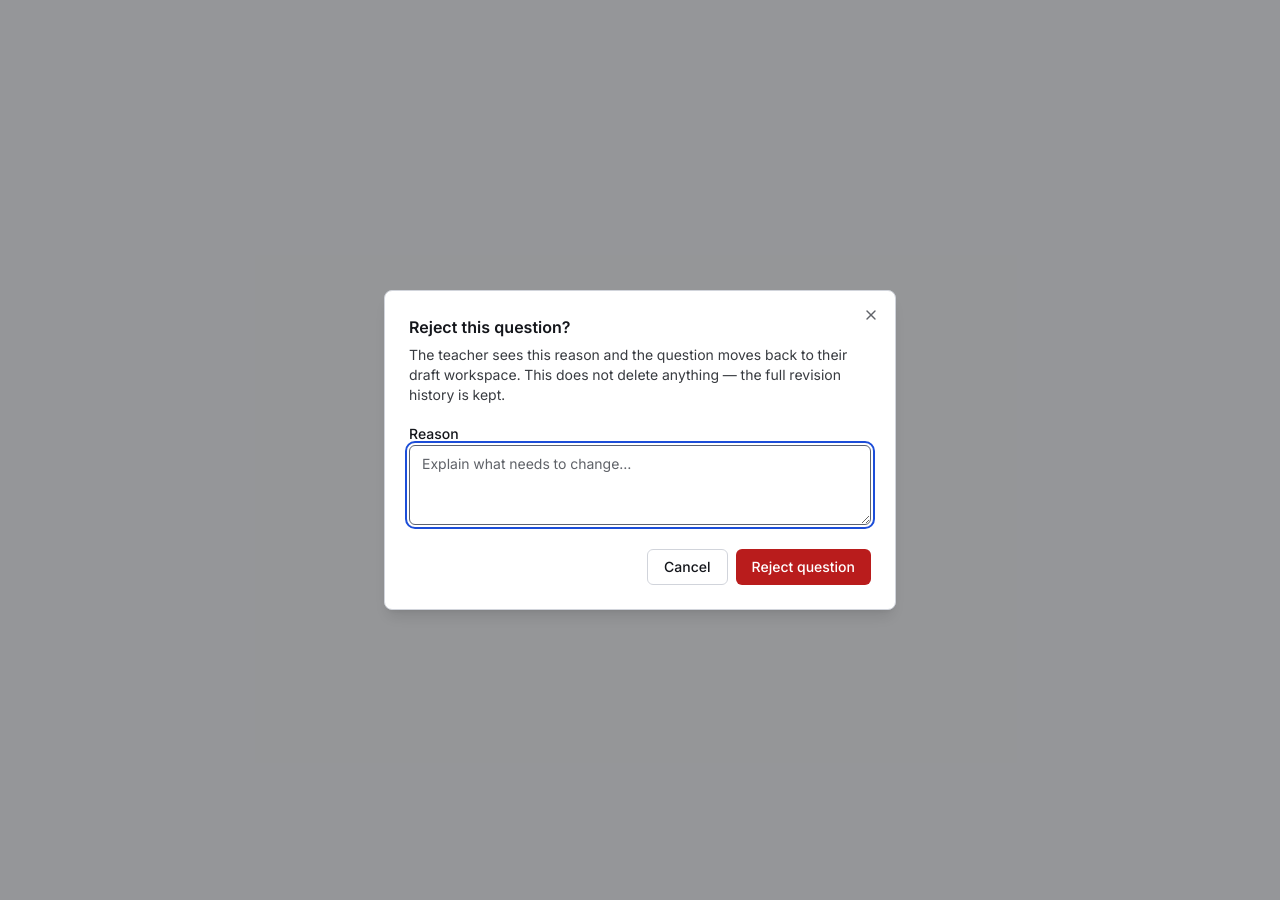
Test: ReviewDecisionDialog › blocks submission client-side when the reason is empty (DoD item 5)
Click the button "Reject question". click: (803, 567)
box: [736, 549, 871, 585]
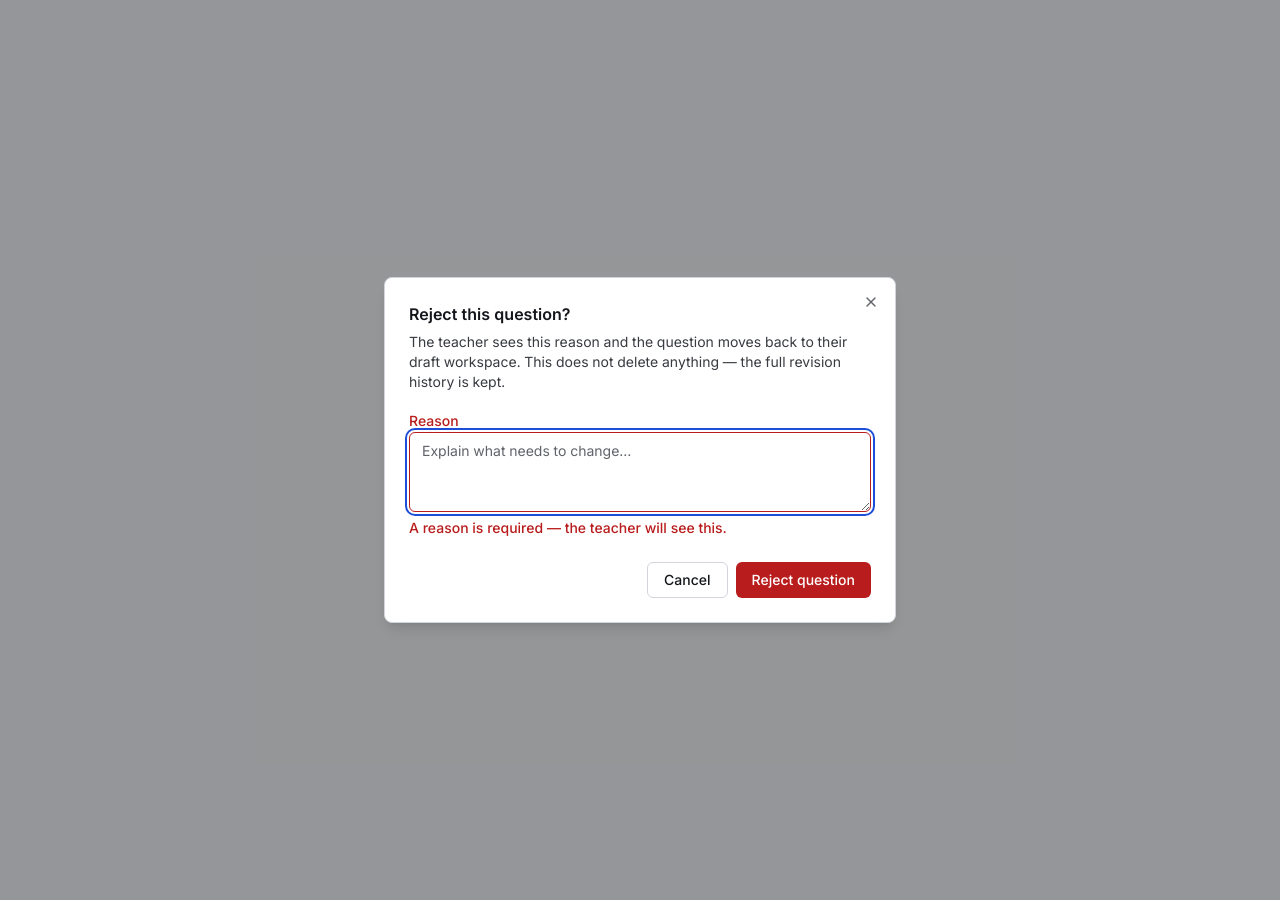
Now the text "A reason is required — the teacher will see this." is shown, box [409, 519, 726, 536]
